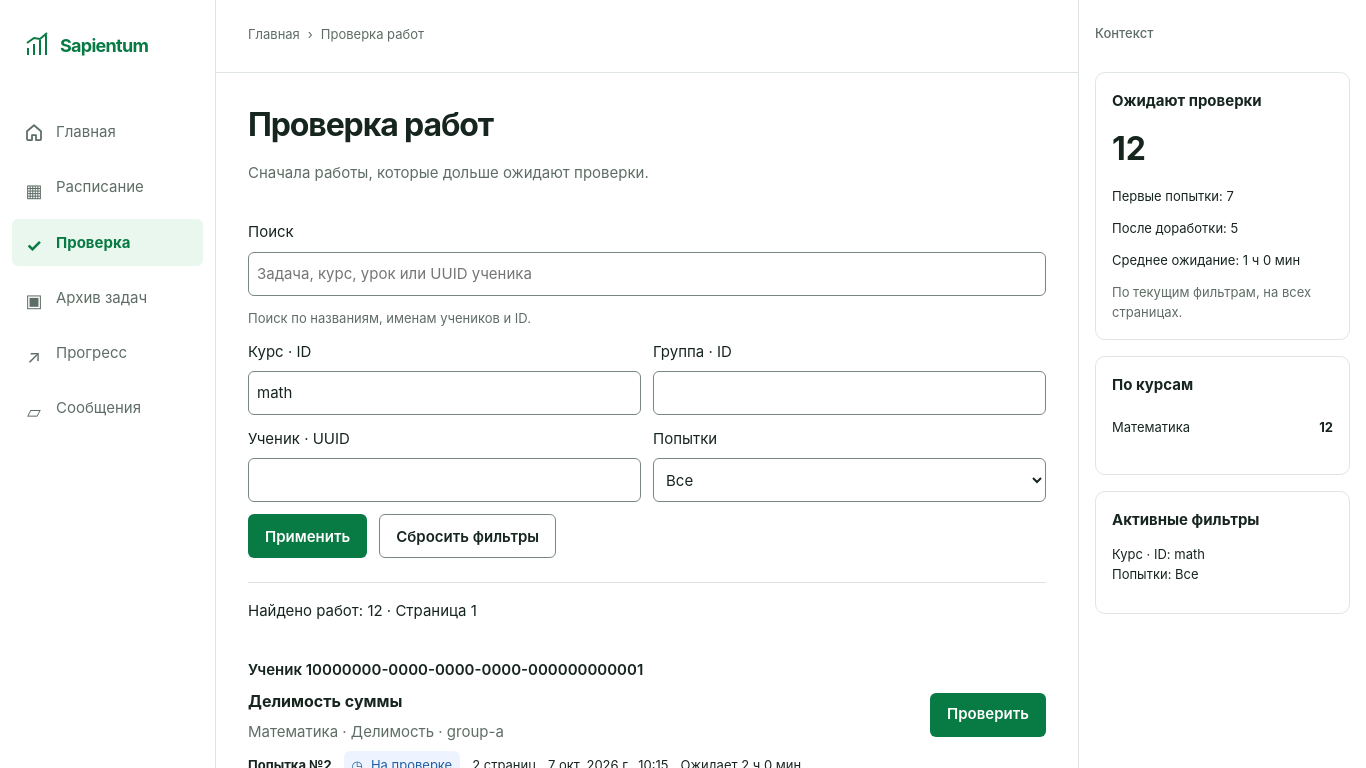
it: Teacher Review Queue › refreshes on return from review with filters preserved
The image size is (1366, 768).
Click the link with aria-label "Проверить: Ученик".
click(988, 715)  # box [930,693,1046,737]
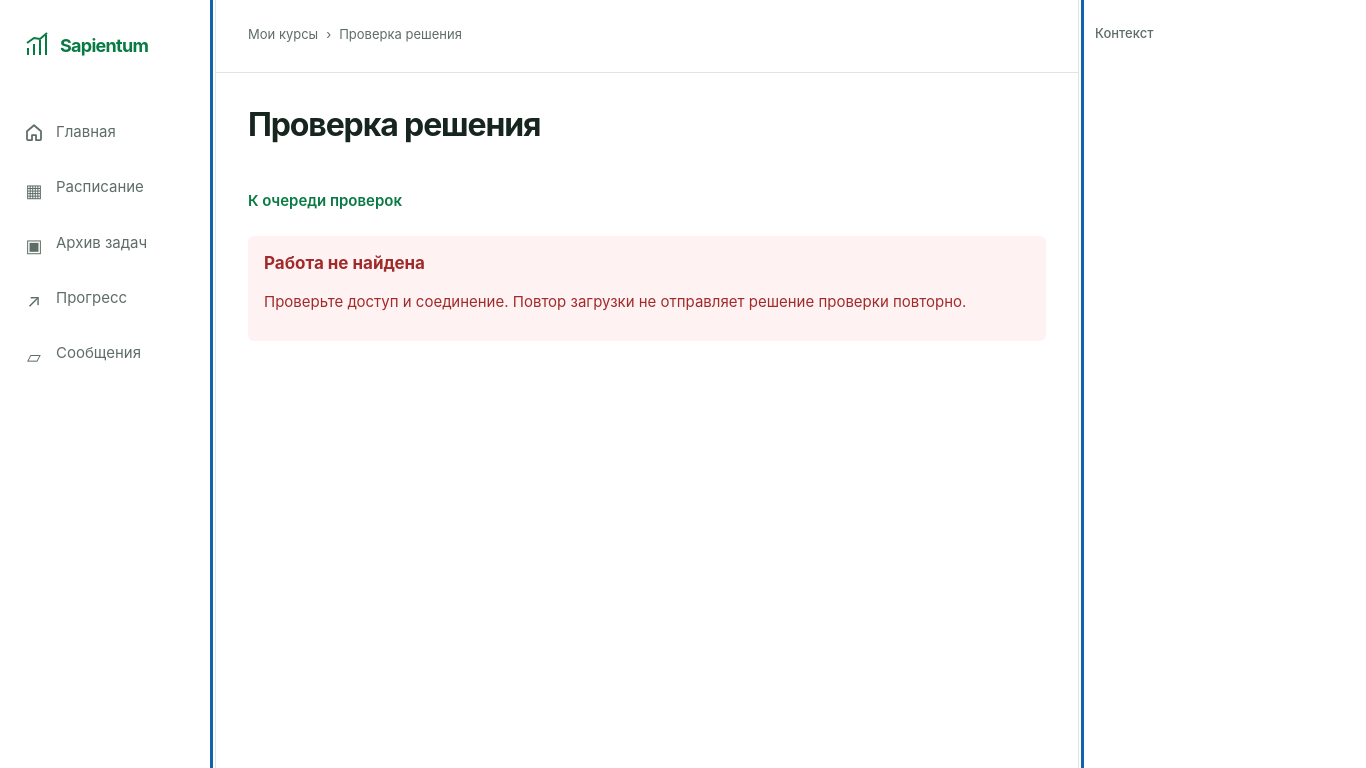
Click the link "К очереди проверок".
click(325, 200)  # box [248,191,402,210]
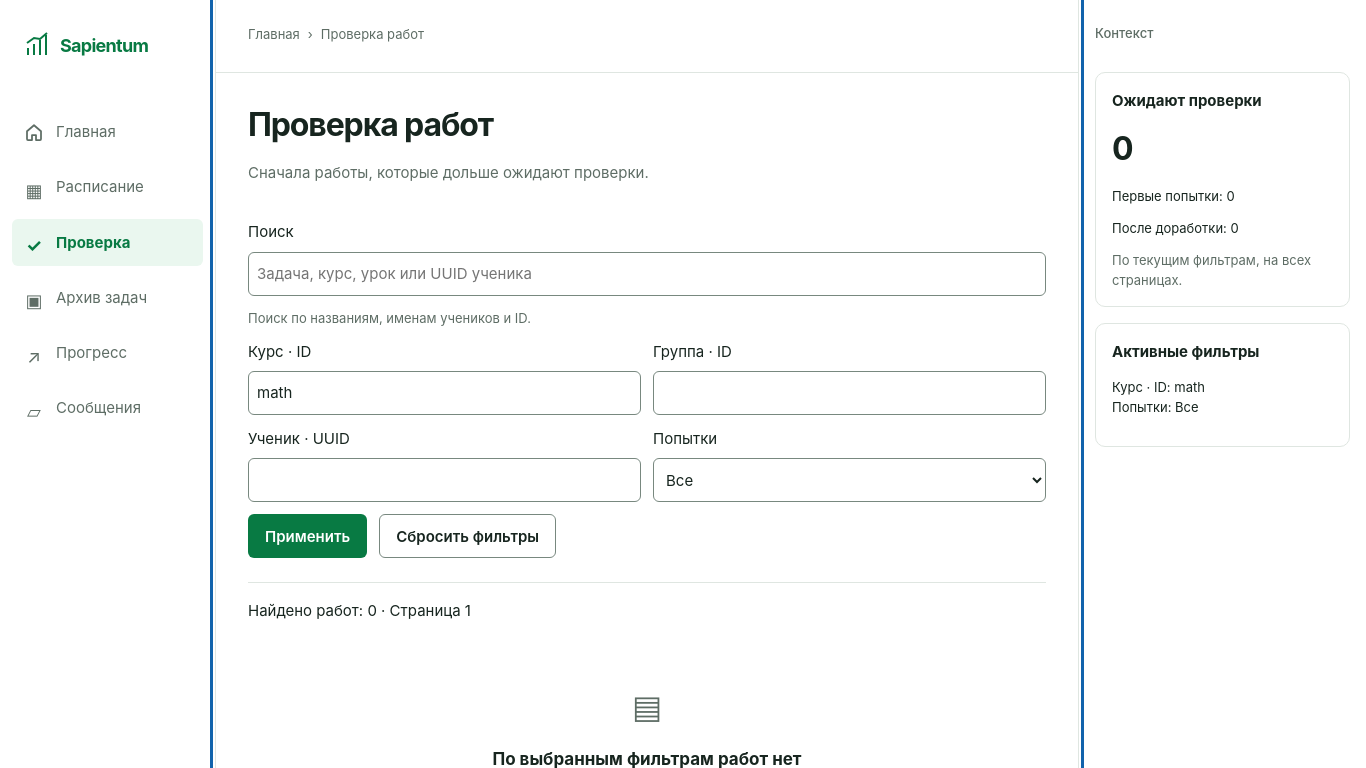
Check: the heading "По выбранным фильтрам работ нет" is shown, box [492,749,802,767]
Check: the field labelled "Курс · ID" holds "math", box [248,371,641,415]
